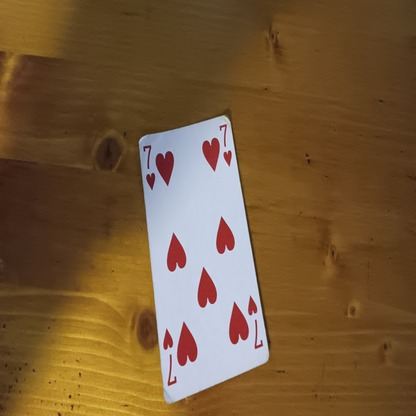7h: (160, 326, 178, 386), (246, 297, 264, 348), (216, 121, 233, 167), (141, 141, 155, 190)
